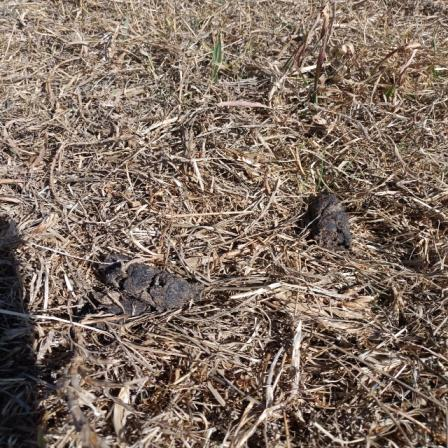dog-poop: (76, 241, 219, 327), (298, 182, 368, 256)
